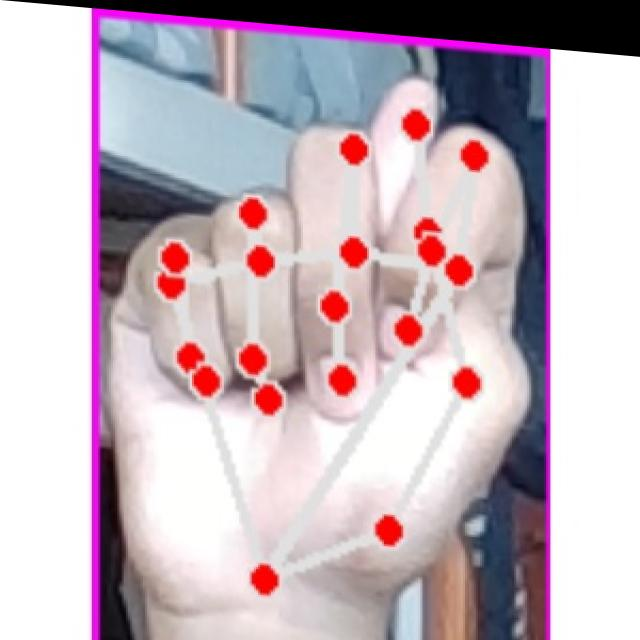T: (108, 35, 520, 633)
